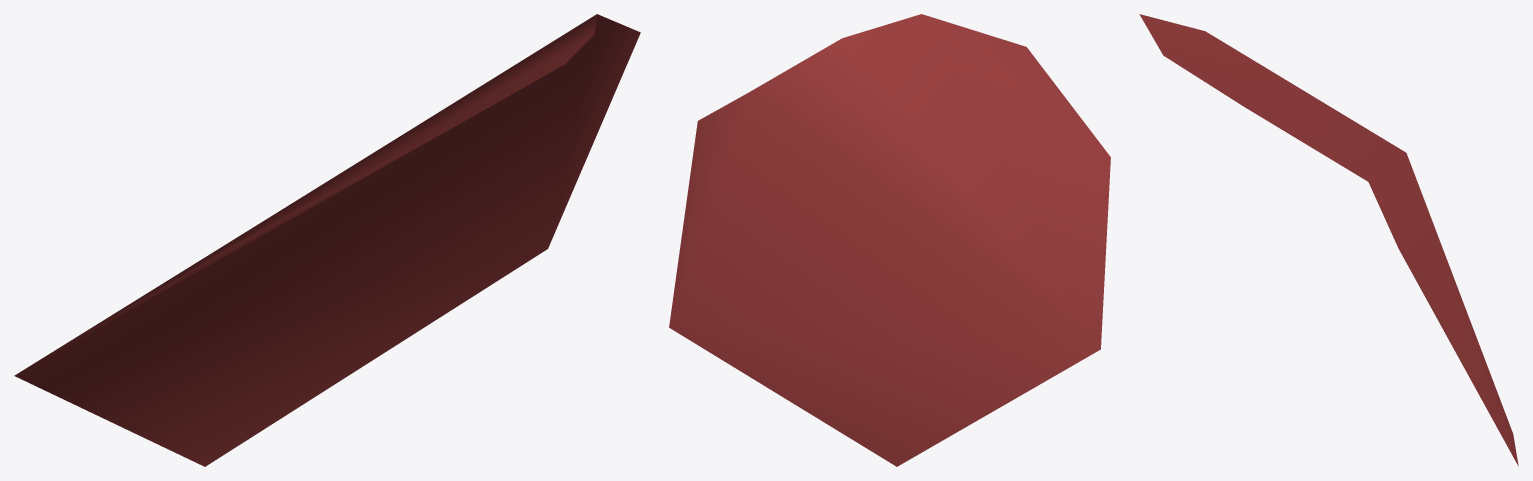
The model's file is rectus-anterior-capitis-muscle-or.glb.
The picture shows the model from 3 angles, left to right: view 1: azimuth 30°, elevation 25°; view 2: azimuth 150°, elevation 25°; view 3: azimuth 270°, elevation 25°; orthographic projection. The views are drawn at different scales.
Visible parts, largest first — view 1: Rectus anterior capitis muscle.or; view 2: Rectus anterior capitis muscle.or; view 3: Rectus anterior capitis muscle.or.
Boxes of the visible parts, box(x1,y1,x2,y2) form: Rectus anterior capitis muscle.or: box(14, 14, 640, 466); Rectus anterior capitis muscle.or: box(669, 14, 1110, 466); Rectus anterior capitis muscle.or: box(1139, 14, 1518, 466).
Bounding box in the file's own units: 0.0085 × 0.00665 × 0.00511.
